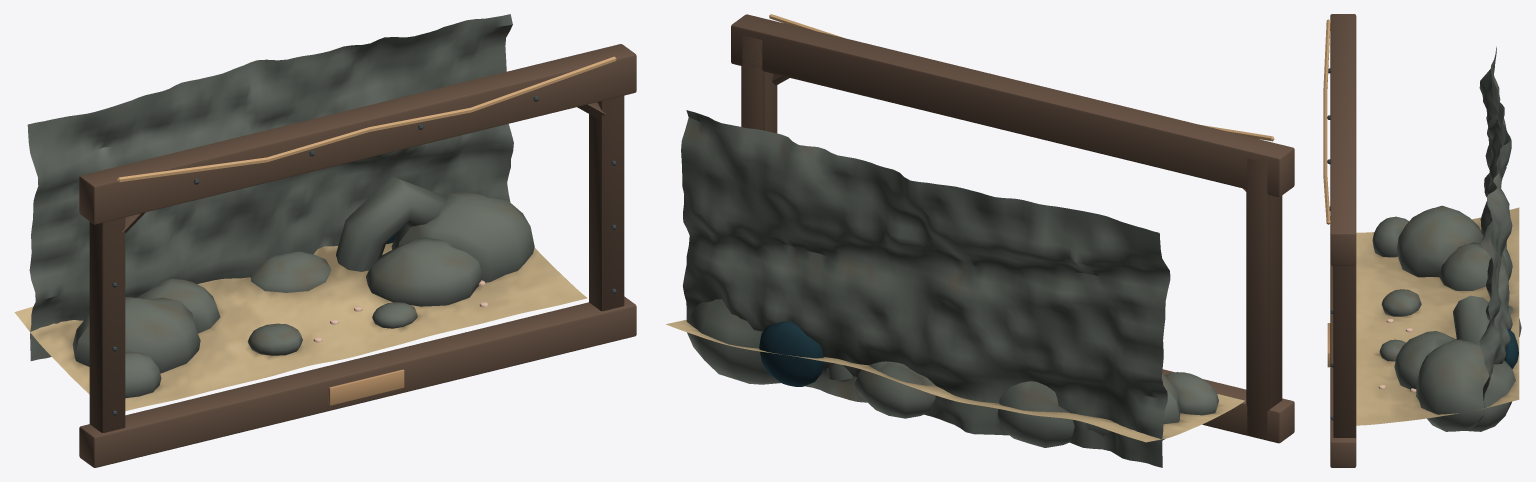
The model's file is aquarium_set.glb.
3 views of the same model, side by side, from view 1: azimuth 30°, elevation 25°; view 2: azimuth 150°, elevation 25°; view 3: azimuth 270°, elevation 25° (orthographic). The views are drawn at different scales.
Visible parts, largest first — view 1: Tank, Frame; view 2: Tank, Frame; view 3: Tank, Frame.
Boxes of the visible parts, x1,y1,x2,y2 form: Tank: (14, 14, 587, 411); Frame: (79, 44, 636, 467); Tank: (666, 110, 1244, 467); Frame: (731, 14, 1294, 443); Tank: (1356, 46, 1521, 431); Frame: (1323, 14, 1356, 467).
Bounding box in the file's own units: 16 × 8.07 × 6.08.
